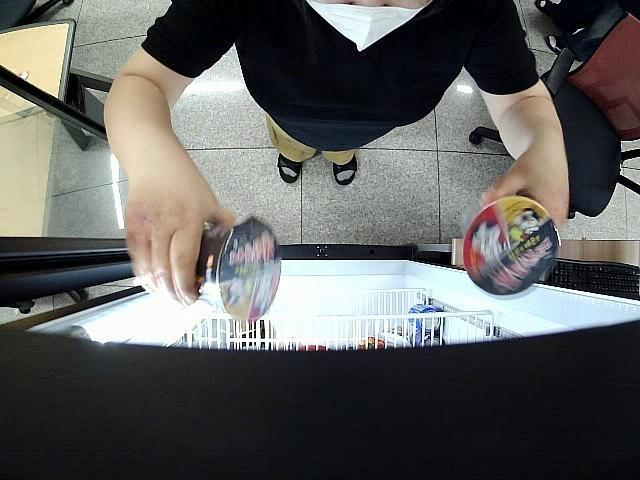08_buldak_S: (460, 195, 561, 294), (189, 215, 280, 321)
